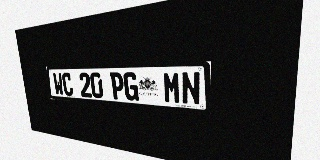0: (90, 72, 103, 98)
2: (79, 72, 92, 98)
C: (61, 73, 74, 96)
G: (123, 72, 139, 101)
M: (163, 72, 181, 104)
N: (181, 72, 201, 106)
P: (110, 72, 125, 100)
W: (52, 73, 64, 96)
